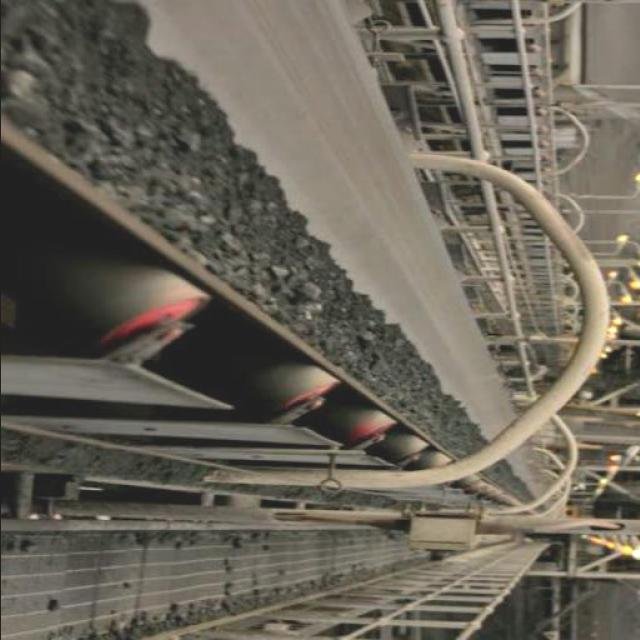conveyor: (0, 0, 562, 524)
